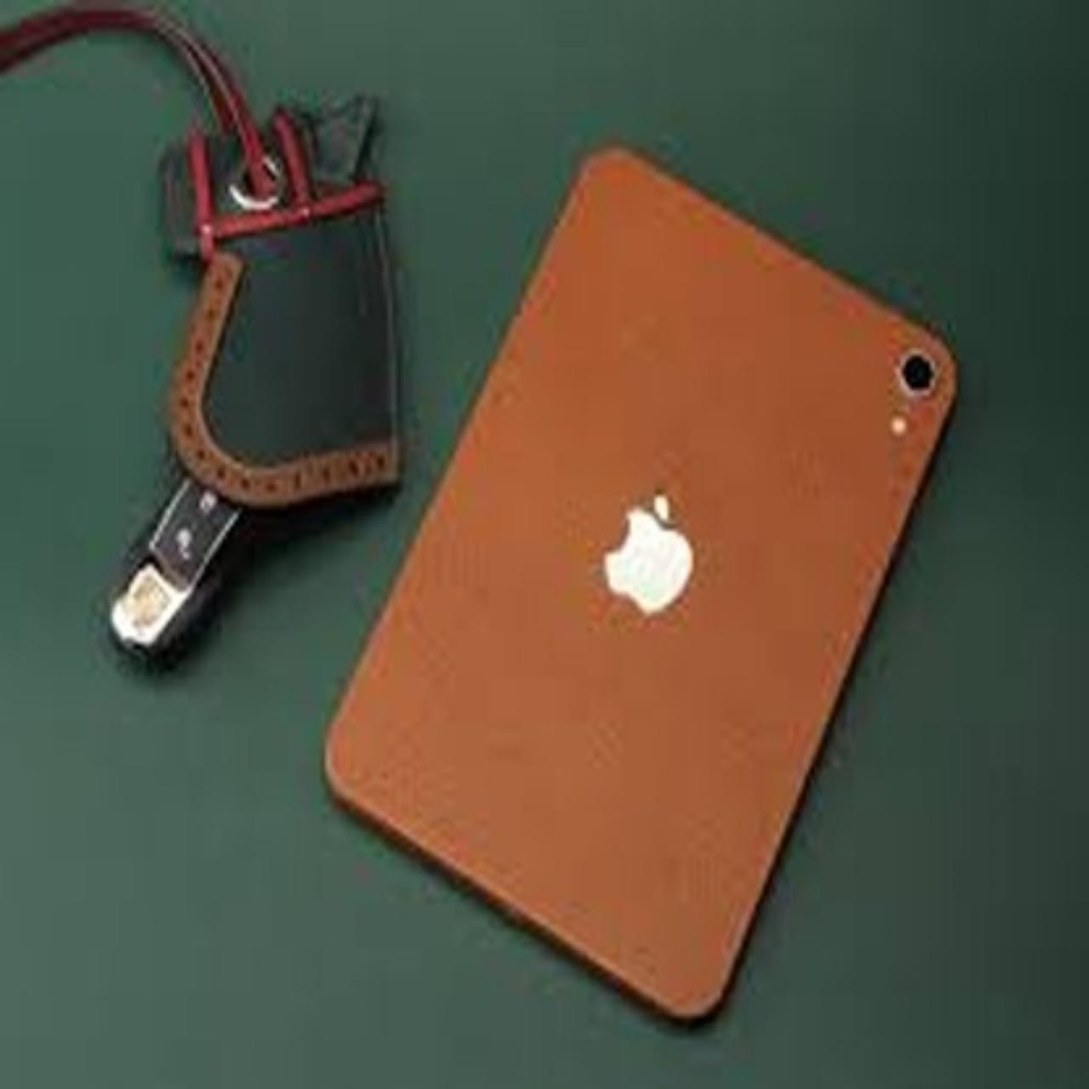Tablet_PC: (299, 139, 976, 1039)
